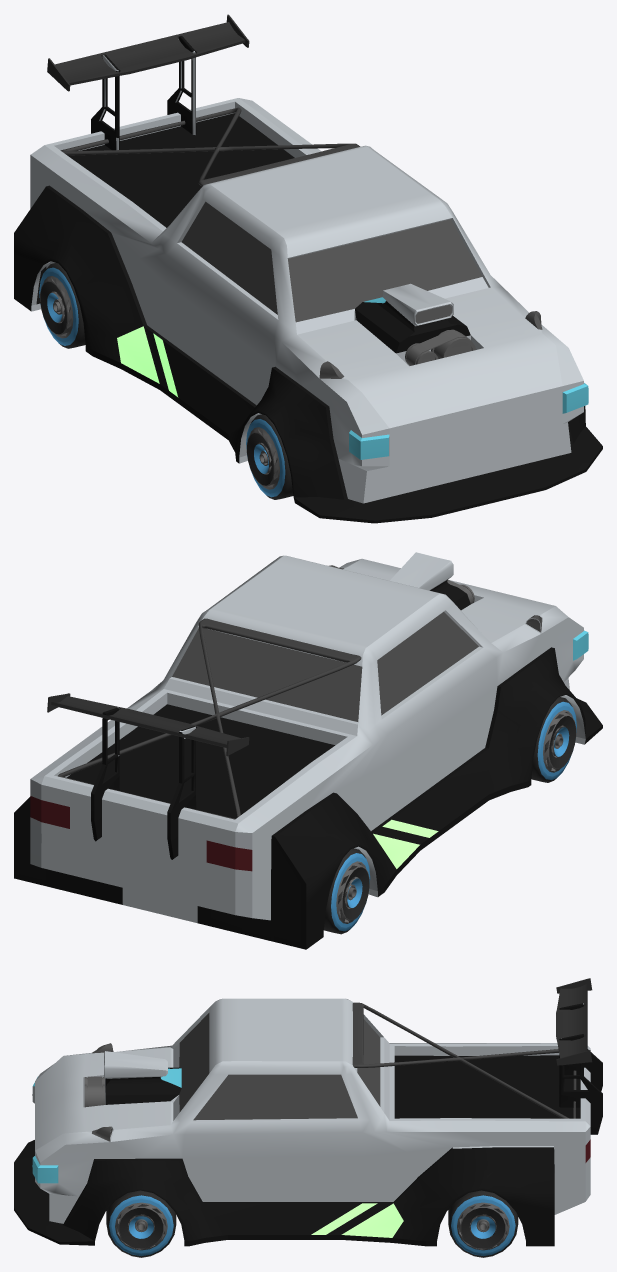
The model's file is 4x4 Test Colorsfix.fbx.
The picture shows the model from 3 angles, top to bottom: view 1: azimuth 30°, elevation 25°; view 2: azimuth 150°, elevation 25°; view 3: azimuth 270°, elevation 25°; orthographic projection. The views are drawn at different scales.
Parts seen in each view (by area): view 1: truck, wing, rollcage, frWheel, brWheel, engine_wheels, enginebelt; view 2: truck, rollcage, wing, brWheel, frWheel; view 3: truck, flWheel, flWheel.001, rollcage, wing, enginebelt.
Part boxes in pixels (x1,y1,x2,y2): truck: (14,36,602,523); wing: (47,14,249,91); rollcage: (60,107,360,186); frWheel: (246,414,293,499); brWheel: (39,263,85,348); engine_wheels: (405,329,475,364); enginebelt: (406,330,470,365); truck: (14,552,602,949); rollcage: (58,618,361,819); wing: (47,693,249,756); brWheel: (324,848,370,934); frWheel: (531,697,576,782); truck: (14,998,602,1246); flWheel: (106,1190,176,1257); flWheel.001: (448,1190,518,1257); rollcage: (352,1002,576,1118); wing: (556,978,592,1065); enginebelt: (87,1076,101,1106).
Bounding box in the file's own units: 1066 × 765 × 2188.
